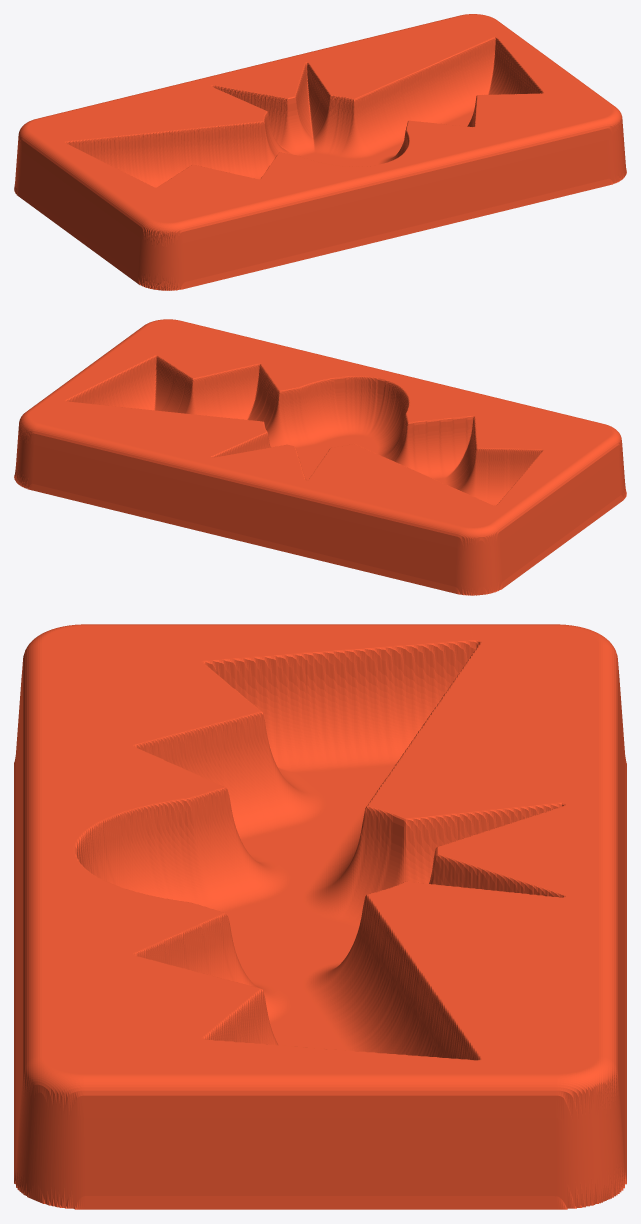
Rendered from mold.glb.
3 views of the same model, one above another, from view 1: azimuth 30°, elevation 25°; view 2: azimuth 150°, elevation 25°; view 3: azimuth 270°, elevation 25° (orthographic). The views are drawn at different scales.
Visible parts, largest first — view 1: geometry_0; view 2: geometry_0; view 3: geometry_0.
Boxes of the visible parts, x1,y1,x2,y2 form: geometry_0: [14, 14, 626, 290]; geometry_0: [14, 319, 626, 595]; geometry_0: [14, 624, 626, 1209].
Size of the model in its own units: 0.1435 by 0.0175 by 0.0788.
